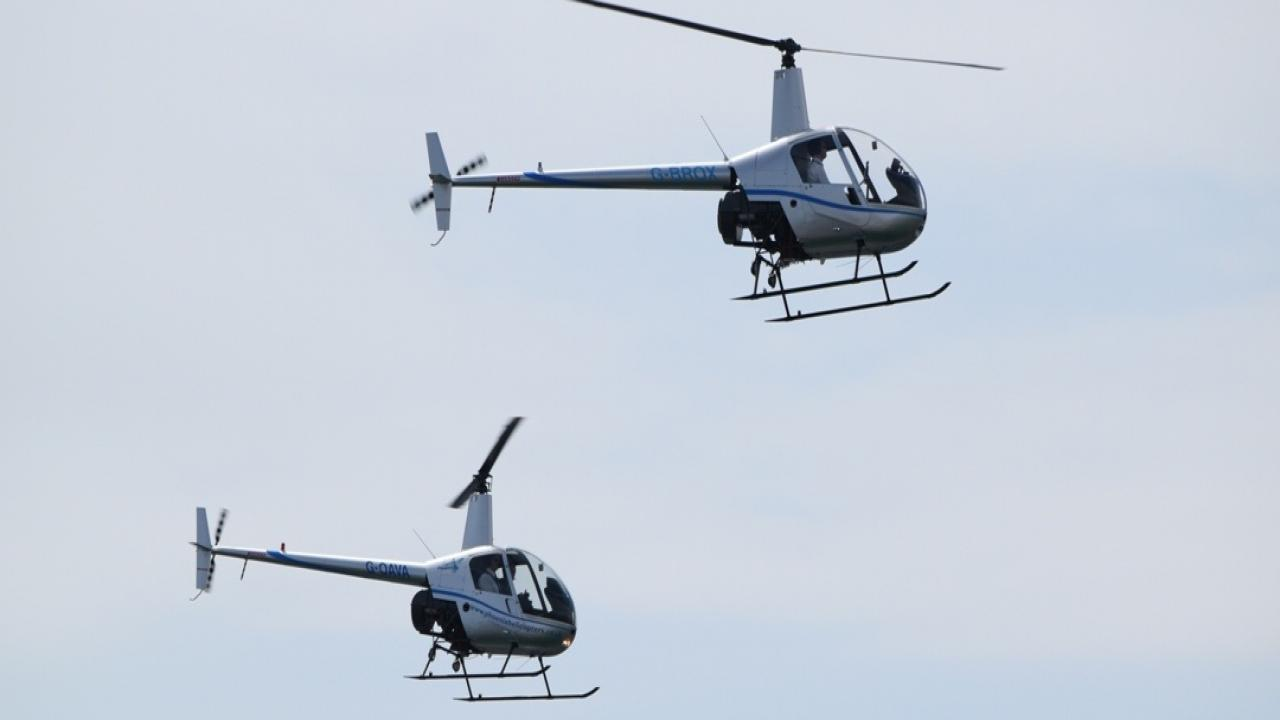Helicopter: (393, 0, 1034, 336), (177, 398, 658, 712)
